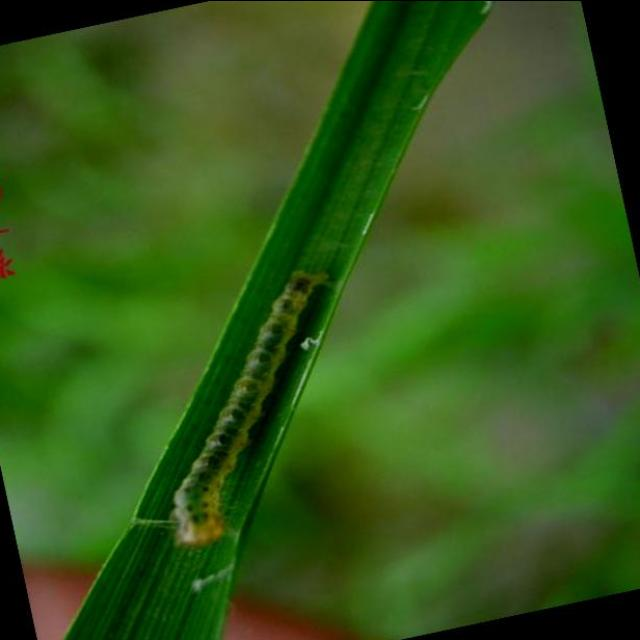leaf folder: (171, 271, 330, 544)
